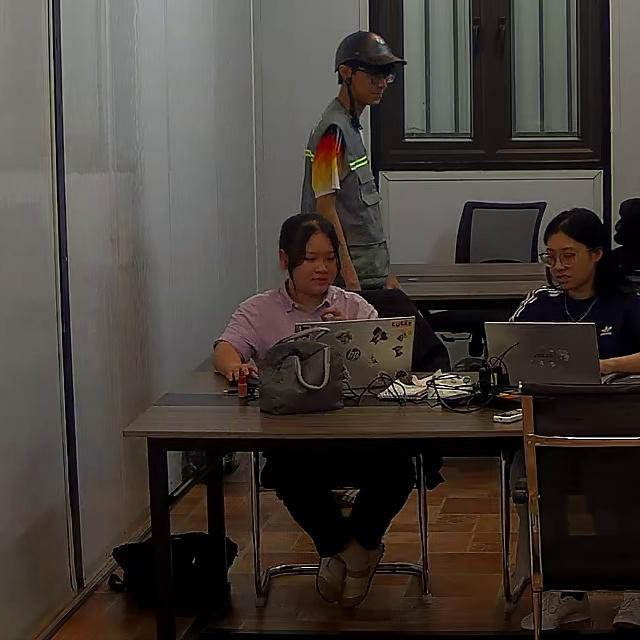helmet: (334, 29, 409, 73)
no_helmet: (543, 204, 630, 298), (278, 212, 343, 287)
none: (215, 282, 376, 375), (509, 282, 639, 365)
vest: (300, 97, 388, 277)
